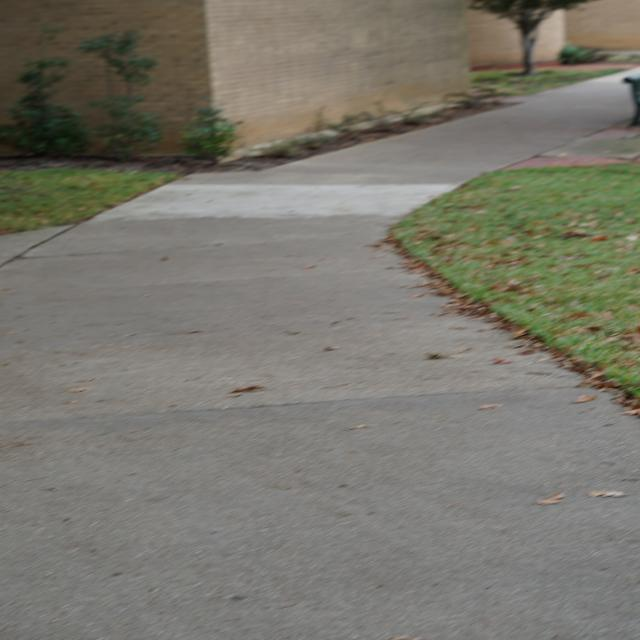Sidewalk: (0, 74, 640, 640), (0, 227, 65, 262)
